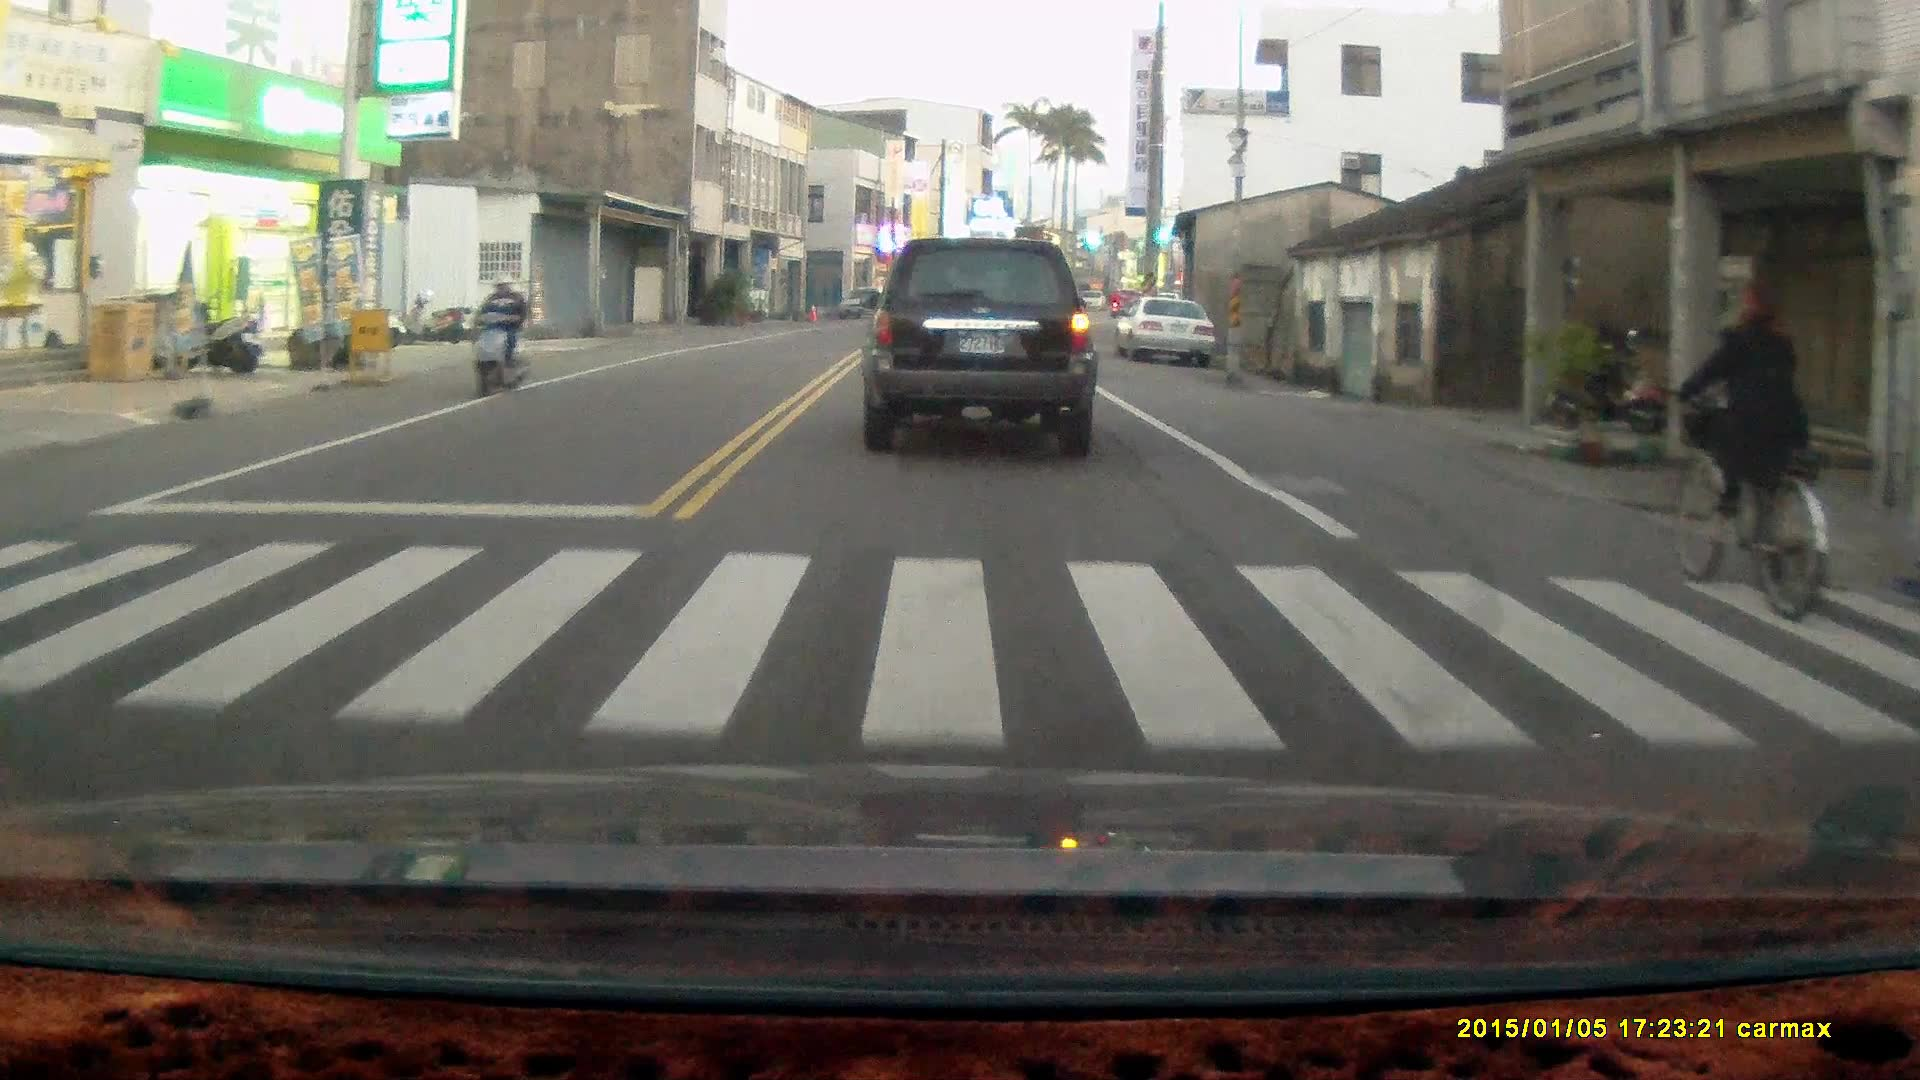rider: (1668, 283, 1836, 625), (459, 268, 530, 397)
vehicle: (862, 235, 1099, 460), (1120, 296, 1221, 364)
